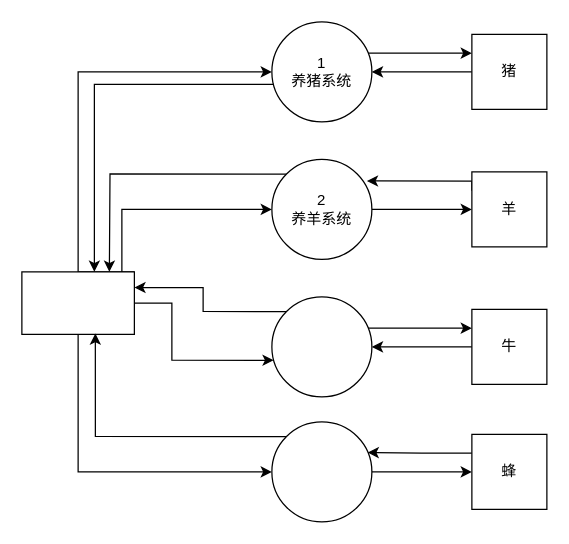
This 569x544 diagram has some shape labels left out. Here are the shapes that lost their labels. From the top down, the box of each, then its label:
(21, 271, 134, 334): 用户
(271, 296, 372, 397): 3 养牛系统
(271, 421, 372, 522): 4 养蜂系统
